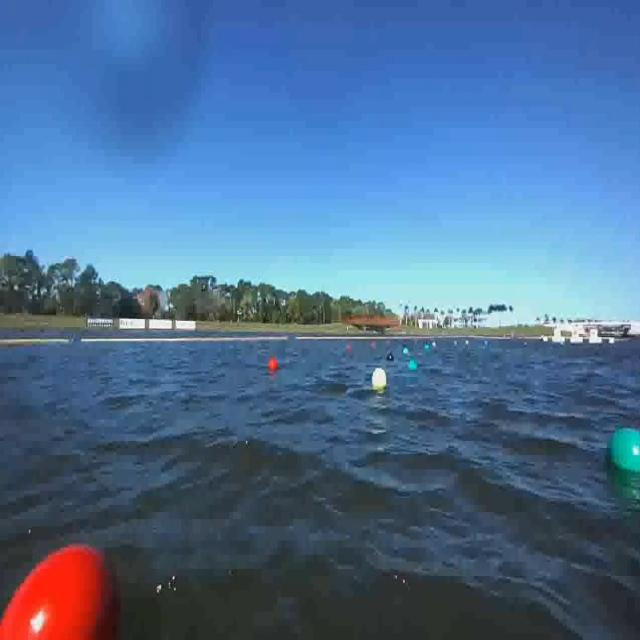black-buoy: (385, 351, 392, 362)
green-buoy: (606, 429, 640, 476), (410, 359, 418, 370)
red-buoy: (0, 524, 137, 638), (270, 358, 279, 370)
yellow-buoy: (373, 368, 388, 392)
